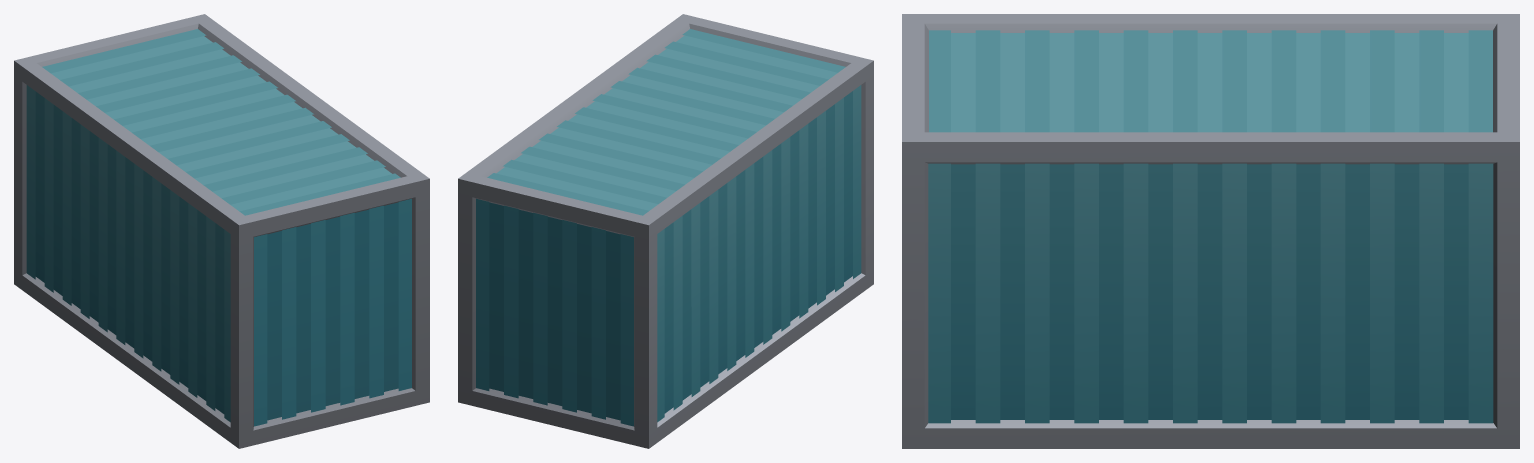
The model's file is Shipping_Container_B.fbx.
3 renders of one model, left to right at view 1: azimuth 30°, elevation 25°; view 2: azimuth 150°, elevation 25°; view 3: azimuth 270°, elevation 25°, orthographic. The views are drawn at different scales.
Visible parts, largest first — view 1: Shipping_Container_B; view 2: Shipping_Container_B; view 3: Shipping_Container_B.
Boxes of the visible parts, x1=… form: Shipping_Container_B: x1=14, y1=14, x2=429, y2=448; Shipping_Container_B: x1=458, y1=14, x2=873, y2=448; Shipping_Container_B: x1=902, y1=14, x2=1519, y2=448.
Bounding box in the file's own units: 234 × 262 × 478.
